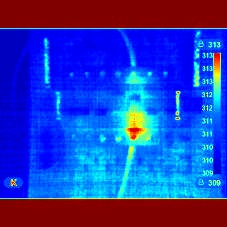High: (116, 107, 156, 146)
